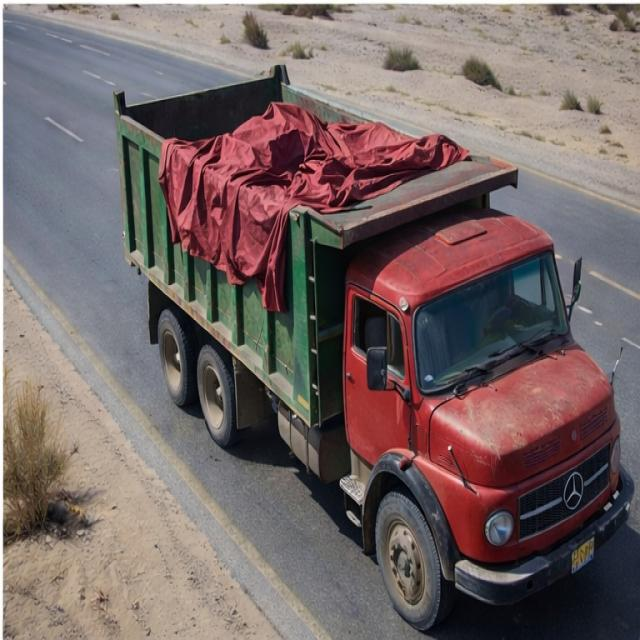Box: (114, 63, 524, 251)
Truck: (104, 46, 631, 624)
